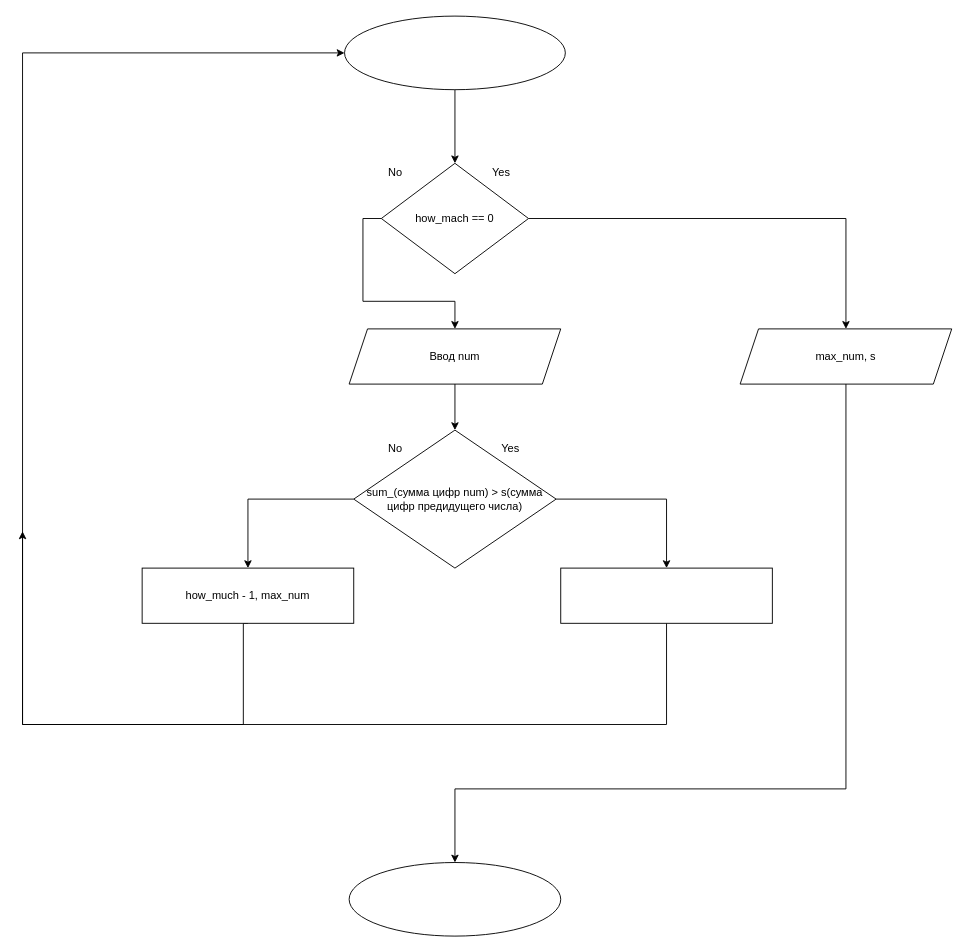
The diagram is 968 pixels wide and 952 high, and some of its shapes have lost their labels. The box of each missing label's shape, as (x1, y1, x2, y2) in pixels:
compare(how_much, max_num=0, s=0): (344, 15, 565, 90)
how_much - 1, max_num = num: (560, 567, 772, 623)
Конец: (348, 862, 561, 936)
